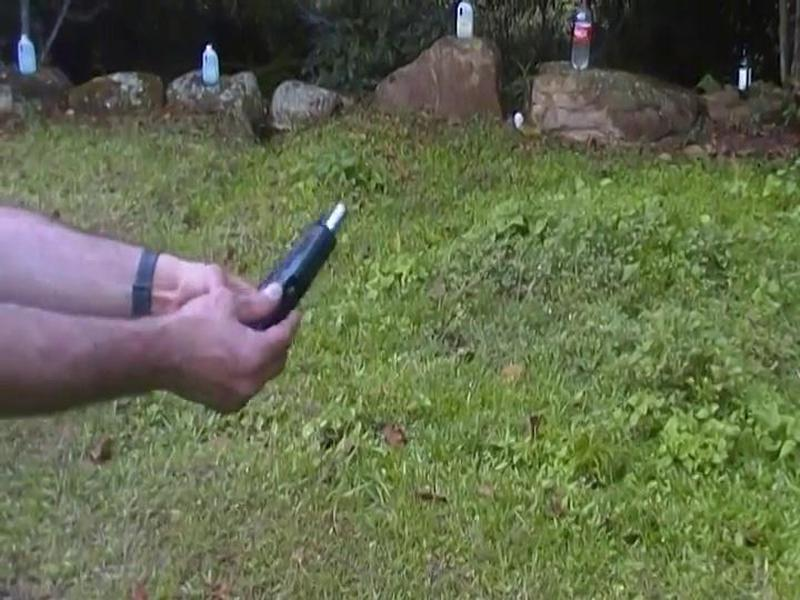Pistola: (211, 180, 377, 373)
